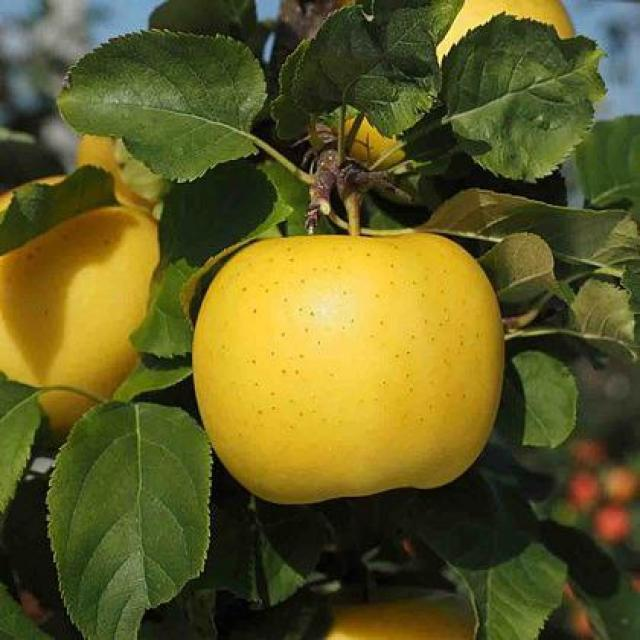Fresh Apple: (188, 215, 508, 508)
